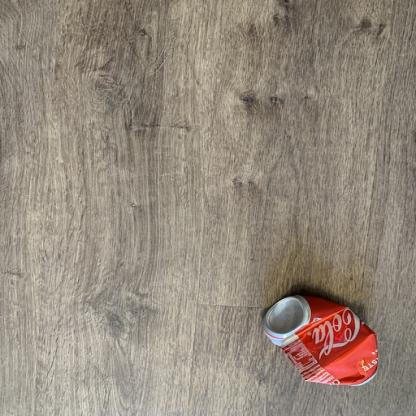trash: (264, 293, 380, 389)
